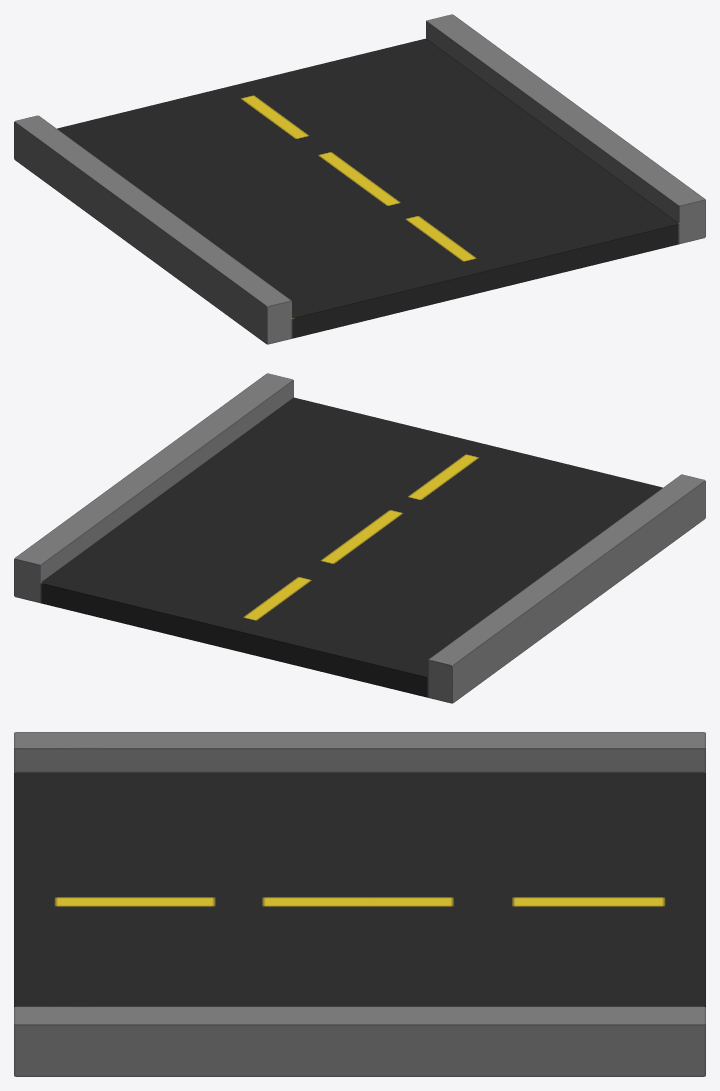
Rendered from road.obj.
3 renders of one model, top to bottom at view 1: azimuth 30°, elevation 25°; view 2: azimuth 150°, elevation 25°; view 3: azimuth 270°, elevation 25°, orthographic. The views are drawn at different scales.
Visible parts, largest first — view 1: cuboid; view 2: cuboid; view 3: cuboid.
Part boxes in pixels (left/top/right/bottom): cuboid: left=14, top=14, right=705, bottom=344; cuboid: left=14, top=373, right=705, bottom=703; cuboid: left=14, top=732, right=705, bottom=1076.
Size of the model in its own units: 11.25 by 0.9375 by 11.25.
1 material, 1 textured.
